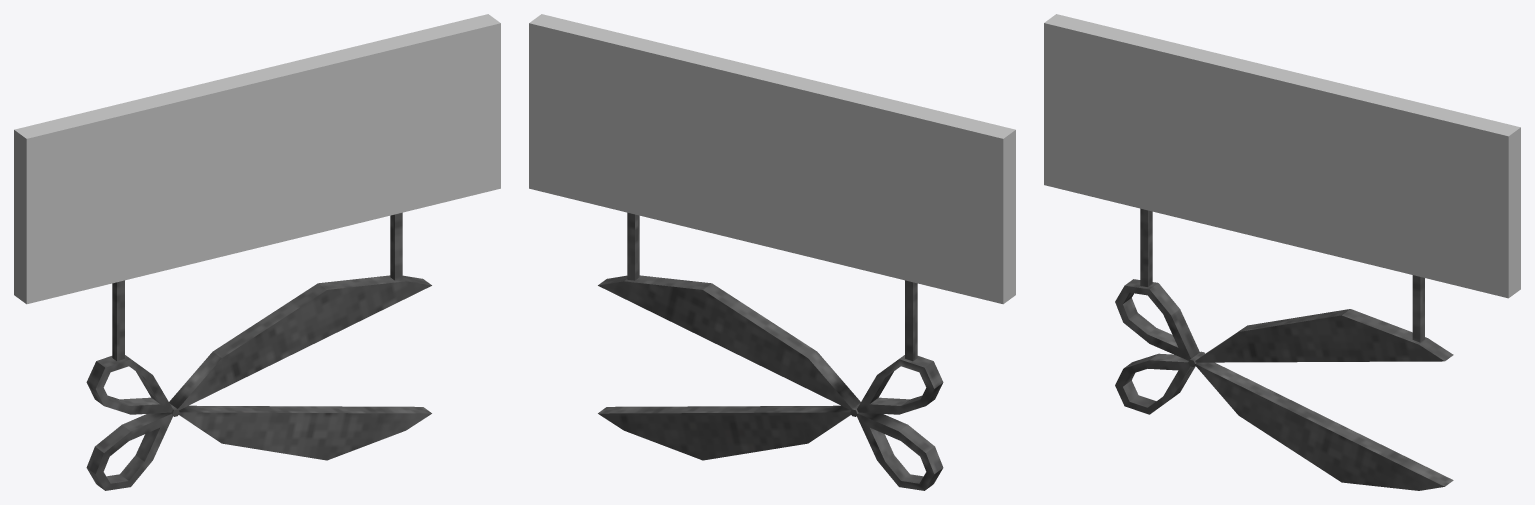
The model's file is MS_Sign_3.fbx.
The picture shows the model from 3 angles, left to right: view 1: azimuth 30°, elevation 25°; view 2: azimuth 150°, elevation 25°; view 3: azimuth 330°, elevation 25°; orthographic projection. The views are drawn at different scales.
Parts seen in each view (by area): view 1: MSH_Sign_Barber; view 2: MSH_Sign_Barber; view 3: MSH_Sign_Barber.
Part boxes in pixels (x1,y1,x2,y2): MSH_Sign_Barber: (14,14,500,490); MSH_Sign_Barber: (529,14,1015,490); MSH_Sign_Barber: (1044,14,1520,490).
Bounding box in the file's own units: 54.6 × 43.63 × 2.51.
